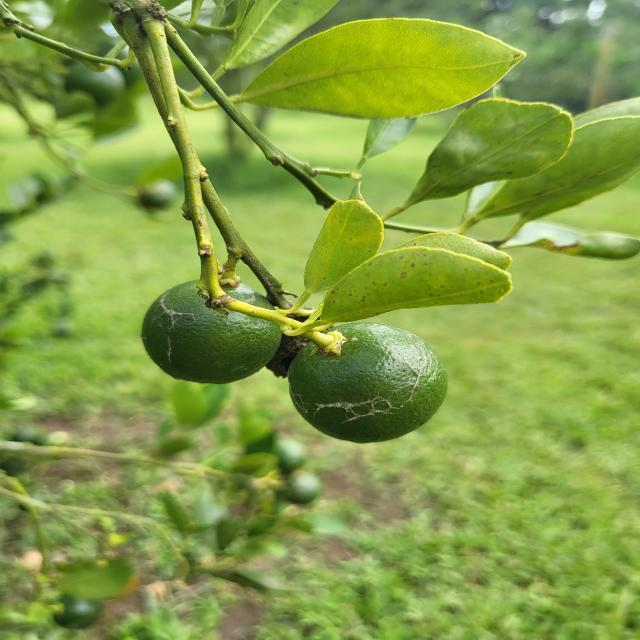thrips: (286, 320, 447, 442), (139, 278, 282, 386)
